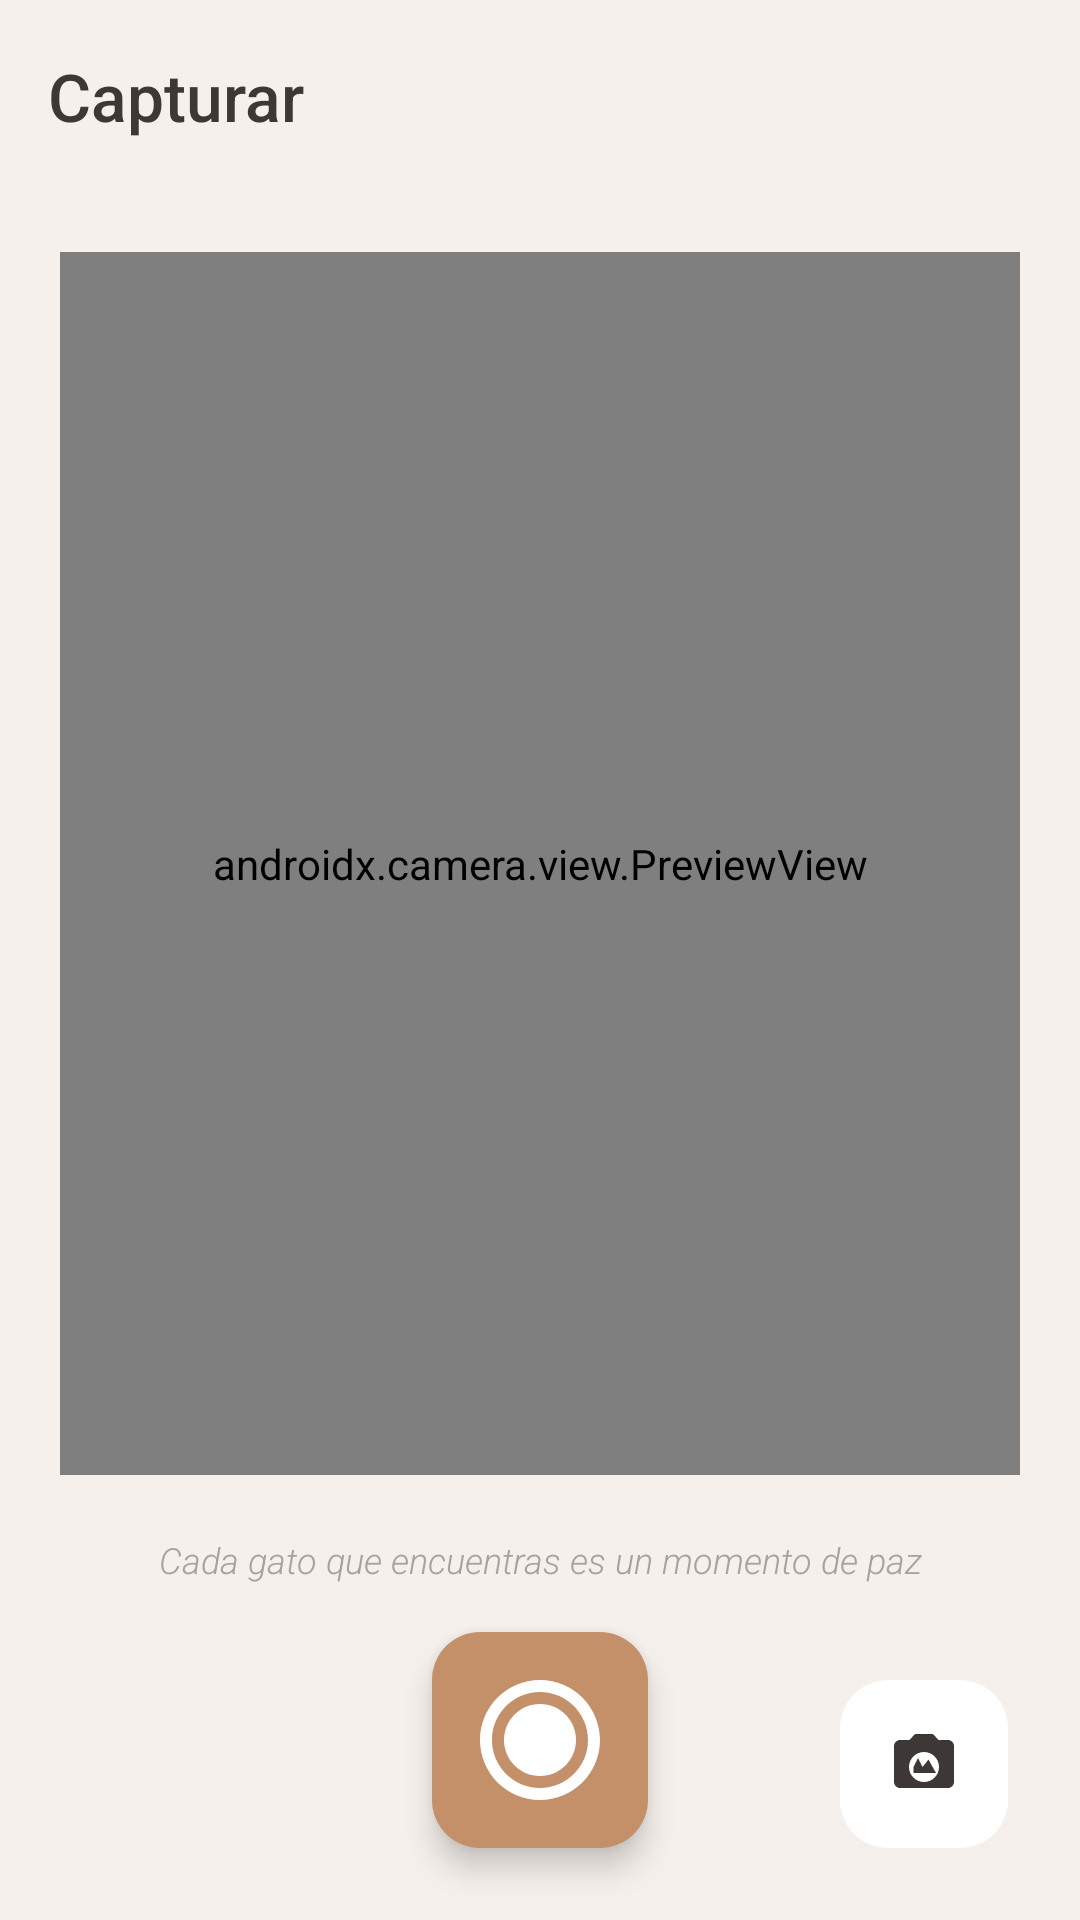

Where icons sit on this 1080px x 1920px app screen, as rect(x1, y1, x2, y2):
Capturar: rect(432, 1632, 648, 1848)
